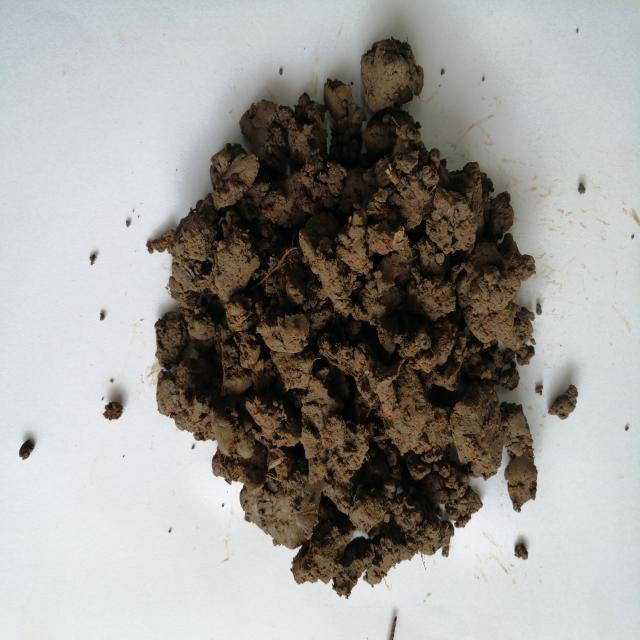soil: (213, 168, 480, 496)
